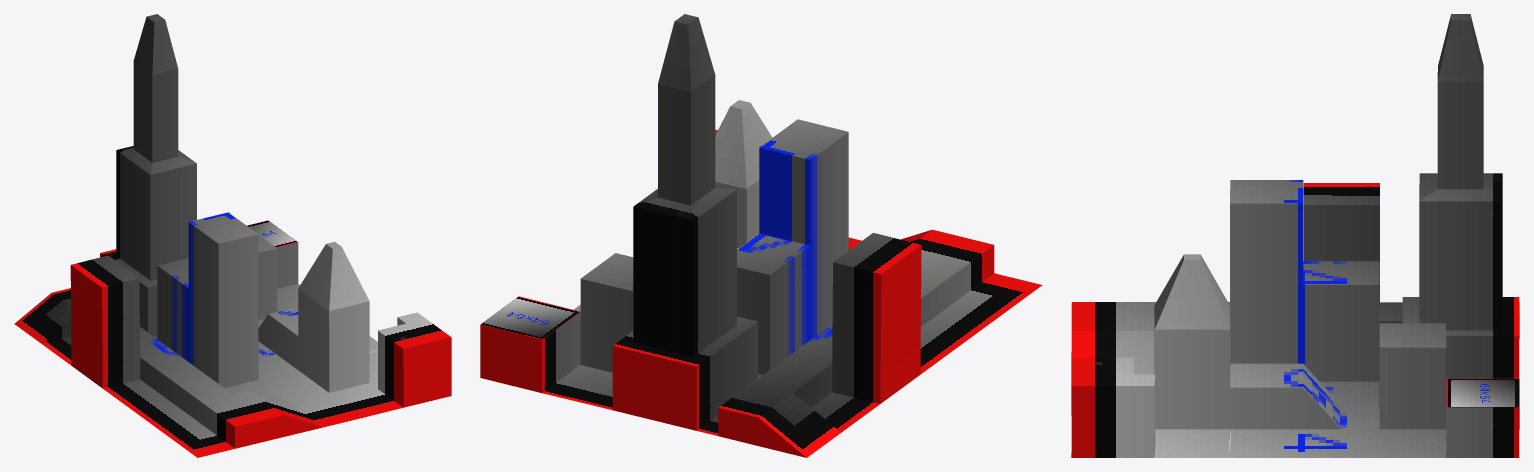
File: cityscape.obj
3 views of the same model, side by side, from view 1: azimuth 30°, elevation 25°; view 2: azimuth 150°, elevation 25°; view 3: azimuth 270°, elevation 25° (orthographic). The views are drawn at different scales.
Parts seen in each view (by area): view 1: Mesh_cityscape; view 2: Mesh_cityscape; view 3: Mesh_cityscape.
Part boxes in pixels (bbox=[...]): Mesh_cityscape: bbox=[14, 14, 451, 457]; Mesh_cityscape: bbox=[480, 14, 1042, 457]; Mesh_cityscape: bbox=[1071, 14, 1519, 457].
Bounding box in the file's own units: 7.67 × 8.47 × 9.57.
